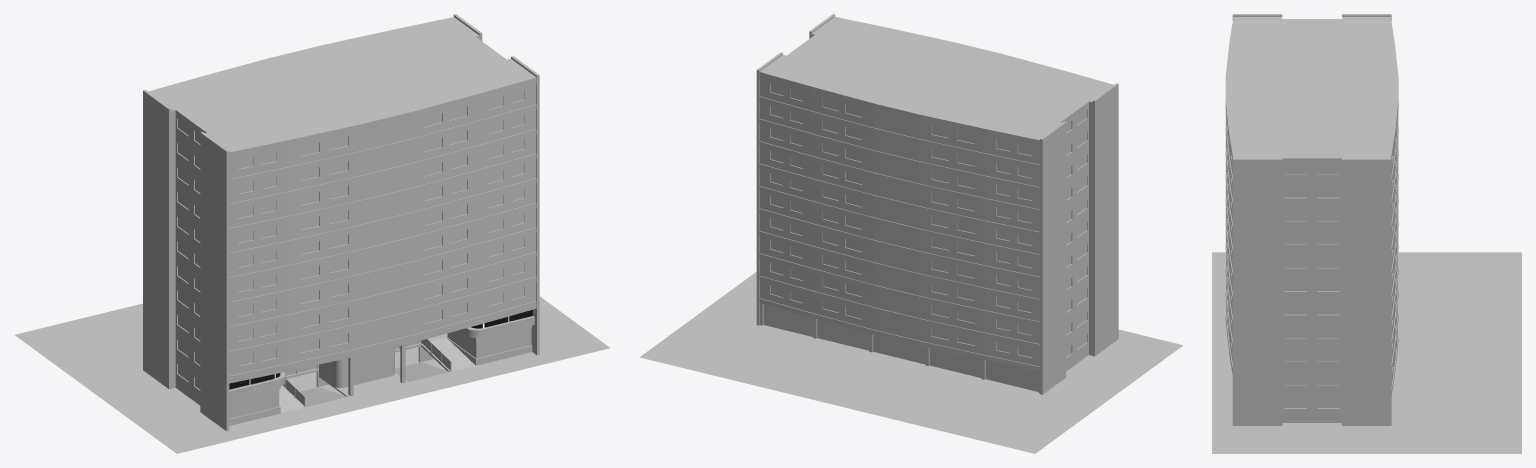
3 renders of one model, left to right at view 1: azimuth 30°, elevation 25°; view 2: azimuth 150°, elevation 25°; view 3: azimuth 270°, elevation 25°, orthographic. The views are drawn at different scales.
Visible parts, largest first — view 1: BB-013; view 2: BB-013; view 3: BB-013.
Boxes of the visible parts, x1,y1,x2,y2 form: BB-013: [14, 14, 610, 453]; BB-013: [639, 14, 1182, 453]; BB-013: [1212, 14, 1521, 453].
Size of what is drawn, in the model's own units: 55.4 by 35.55 by 36.
